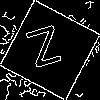Z: (25, 25, 68, 78)
